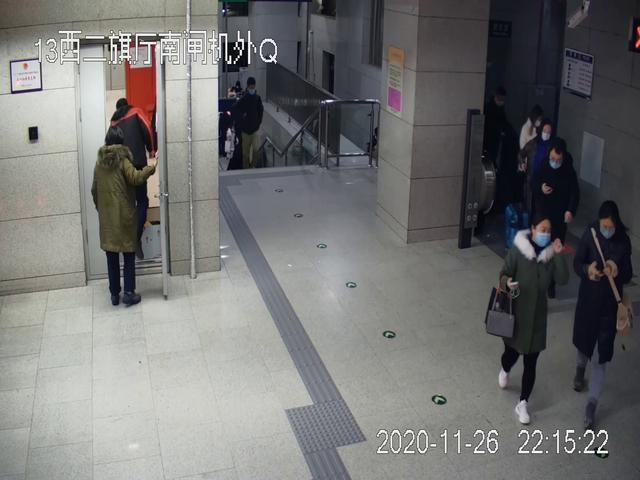person: (486, 210, 562, 425), (572, 201, 632, 431), (92, 126, 158, 307), (537, 139, 579, 298), (105, 98, 154, 225), (231, 76, 264, 175)
